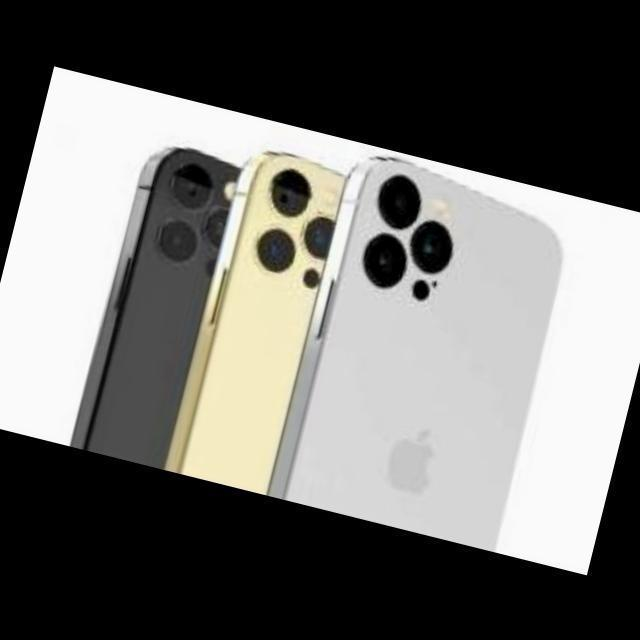lens: (360, 163, 456, 304), (248, 162, 337, 286), (148, 157, 233, 266)
phone: (265, 139, 574, 548), (158, 137, 353, 494), (66, 128, 243, 472)
